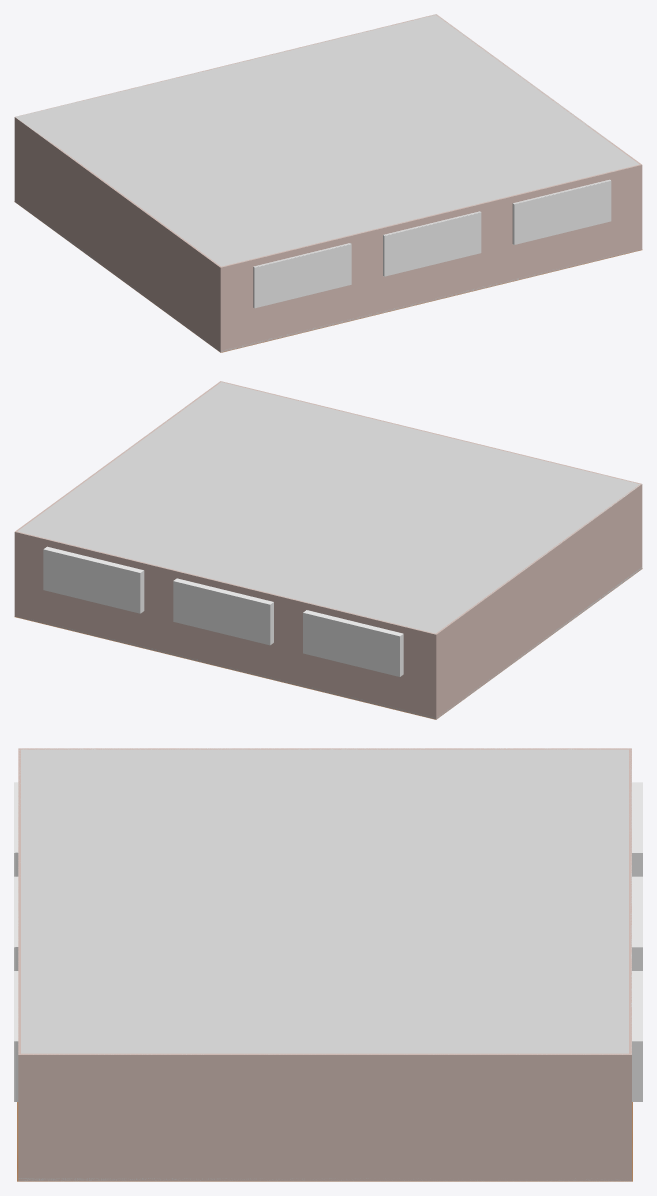
The model's file is AllRoom.fbx.
The picture shows the model from 3 angles, top to bottom: view 1: azimuth 30°, elevation 25°; view 2: azimuth 150°, elevation 25°; view 3: azimuth 270°, elevation 25°; orthographic projection. The views are drawn at different scales.
Visible parts, largest first — view 1: Ceiling, Room, CTRL_Hole.002, CTRL_Hole, CTRL_Hole.003, Baseboard, Parquet; view 2: Ceiling, Room, CTRL_Hole.005, CTRL_Hole.001, CTRL_Hole.004, Baseboard, Parquet; view 3: Ceiling, Room, CTRL_Hole.005, CTRL_Hole.001, CTRL_Hole.004, Parquet.
Boxes of the visible parts, x1,y1,x2,y2 form: Ceiling: (15, 14, 639, 266); Room: (14, 14, 642, 352); CTRL_Hole.002: (513, 179, 611, 244); CTRL_Hole: (383, 211, 481, 276); CTRL_Hole.003: (254, 243, 351, 308); Baseboard: (15, 201, 628, 352); Parquet: (14, 201, 642, 352); Ceiling: (17, 381, 641, 633); Room: (14, 381, 642, 719); CTRL_Hole.005: (43, 546, 144, 613); CTRL_Hole.001: (303, 610, 403, 676); CTRL_Hole.004: (173, 578, 273, 645); Baseboard: (20, 567, 641, 719); Parquet: (14, 568, 642, 719); Ceiling: (18, 748, 631, 1054); Room: (18, 748, 631, 1181); CTRL_Hole.005: (632, 971, 642, 1101); CTRL_Hole.001: (632, 782, 642, 876); CTRL_Hole.004: (632, 876, 642, 970); Parquet: (17, 1102, 632, 1181).
Size of the model in its own units: 2602 by 500 by 2255.
